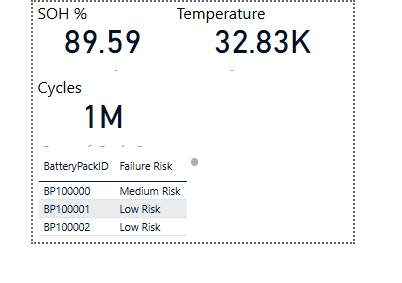

What the dashboard file says about the page in this screenshot:
{"tool":"powerbi","page":{"name":"Battery Tooltip","canvas":[320,240],"ordinal":2},"visuals":[{"type":"card","title":"SOH %","fields":{"Values":["Avg(Battery_Data.SOH_Percent)"]},"box":[0,0,139,74],"z":0},{"type":"card","title":"Temperature","fields":{"Values":["Sum(Battery_Data.Temperature_C)"]},"box":[139,0,181,74],"z":1000},{"type":"card","title":"Cycles","fields":{"Values":["Sum(Battery_Data.CycleCount)"]},"box":[0,74,139,76],"z":2000},{"type":"tableEx","fields":{"Values":["Battery_Data.BatteryPackID","Battery_Data.Failure Risk"]},"box":[0,150,171,89],"z":3000}]}

Visuals, with their boxes on the page's 320x240 design canvas (x1, y1, x2, y2). These are canvas units, not pixel positions in the 402x283 screenshot, which may show the page scaled, cropped or inside an application window:
"SOH %" card: left=0, top=0, right=139, bottom=74
"Temperature" card: left=139, top=0, right=320, bottom=74
"Cycles" card: left=0, top=74, right=139, bottom=150
tableEx - Battery_Data.BatteryPackID x Battery_Data.Failure Risk: left=0, top=150, right=171, bottom=239
